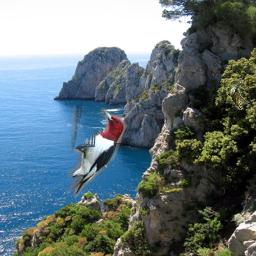Swallow: (226, 80, 248, 110)
Woodpecker: (66, 107, 128, 198)
